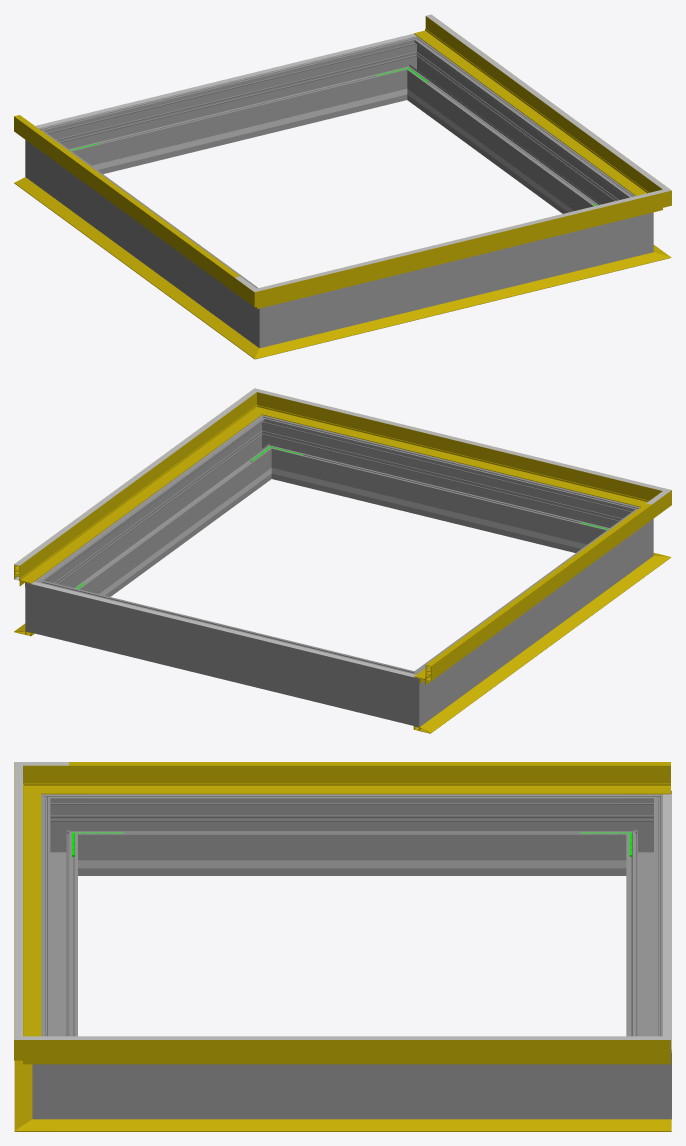
3 views of the same model, one above another, from view 1: azimuth 30°, elevation 25°; view 2: azimuth 150°, elevation 25°; view 3: azimuth 270°, elevation 25° (orthographic). The views are drawn at different scales.
Parts seen in each view (by area): view 1: 3DGeom-276, 3DGeom-298, 3DGeom-297, 3DGeom-268, 3DGeom-56, 3DGeom-58, 3DGeom-28, 3DGeom-50, 3DGeom-38, 3DGeom-270, 3DGeom-244, 3DGeom-284 (+10 smaller); view 2: 3DGeom-298, 3DGeom-276, 3DGeom-297, 3DGeom-268, 3DGeom-56, 3DGeom-58, 3DGeom-50, 3DGeom-38, 3DGeom-278, 3DGeom-284, 3DGeom-239, 3DGeom-290 (+8 smaller); view 3: 3DGeom-268, 3DGeom-297, 3DGeom-50, 3DGeom-58, 3DGeom-30, 3DGeom-298, 3DGeom-276, 3DGeom-56, 3DGeom-232, 3DGeom-284, 3DGeom-290, 3DGeom-270 (+9 smaller).
Boxes of the visible parts, bbox=[...] form: 3DGeom-276: bbox=[63, 43, 401, 173]; 3DGeom-298: bbox=[294, 221, 618, 339]; 3DGeom-297: bbox=[410, 48, 627, 213]; 3DGeom-268: bbox=[45, 140, 250, 333]; 3DGeom-56: bbox=[286, 199, 637, 301]; 3DGeom-58: bbox=[414, 16, 645, 194]; 3DGeom-28: bbox=[283, 258, 636, 350]; 3DGeom-50: bbox=[14, 116, 236, 292]; 3DGeom-38: bbox=[14, 177, 245, 344]; 3DGeom-270: bbox=[239, 282, 294, 348]; 3DGeom-244: bbox=[104, 97, 373, 167]; 3DGeom-284: bbox=[388, 36, 433, 102]; 3DGeom-298: bbox=[277, 422, 615, 552]; 3DGeom-276: bbox=[60, 586, 390, 718]; 3DGeom-297: bbox=[51, 427, 268, 596]; 3DGeom-268: bbox=[428, 519, 633, 711]; 3DGeom-56: bbox=[279, 399, 633, 503]; 3DGeom-58: bbox=[14, 404, 251, 586]; 3DGeom-50: bbox=[414, 505, 651, 685]; 3DGeom-38: bbox=[413, 566, 650, 733]; 3DGeom-278: bbox=[384, 661, 439, 727]; 3DGeom-284: bbox=[25, 569, 66, 639]; 3DGeom-239: bbox=[305, 476, 574, 546]; 3DGeom-290: bbox=[245, 415, 290, 480]; 3DGeom-268: bbox=[87, 794, 617, 875]; 3DGeom-297: bbox=[87, 1064, 617, 1119]; 3DGeom-50: bbox=[69, 765, 670, 794]; 3DGeom-58: bbox=[69, 1040, 670, 1064]; 3DGeom-30: bbox=[69, 1119, 671, 1131]; 3DGeom-298: bbox=[41, 813, 77, 1036]; 3DGeom-276: bbox=[626, 813, 662, 1036]; 3DGeom-56: bbox=[14, 785, 41, 1036]; 3DGeom-232: bbox=[131, 860, 573, 868]; 3DGeom-284: bbox=[617, 1030, 671, 1119]; 3DGeom-290: bbox=[32, 1030, 86, 1119]; 3DGeom-270: bbox=[41, 794, 86, 875].
Size of the model in its own units: 1.83 by 0.2831 by 1.83.
